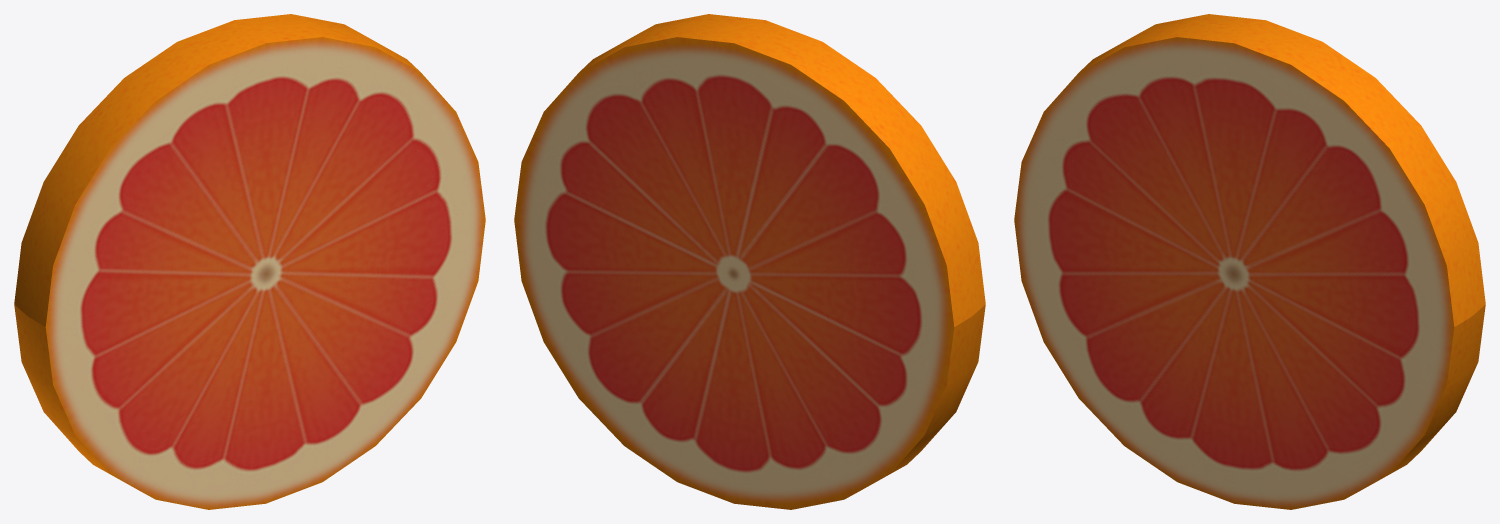
File: GrapefruitSlice_1.fbx
3 views of the same model, side by side, from view 1: azimuth 30°, elevation 25°; view 2: azimuth 150°, elevation 25°; view 3: azimuth 330°, elevation 25° (orthographic).
Parts seen in each view (by area): view 1: GrapefruitSlice_1; view 2: GrapefruitSlice_1; view 3: GrapefruitSlice_1.
Boxes of the visible parts, box(x1,y1,x2,y2) form: GrapefruitSlice_1: box(14, 14, 485, 509); GrapefruitSlice_1: box(514, 14, 985, 509); GrapefruitSlice_1: box(1014, 14, 1485, 509).
Bounding box in the file's own units: 0.0699 × 0.0699 × 0.00883.
1 material, 1 textured.
